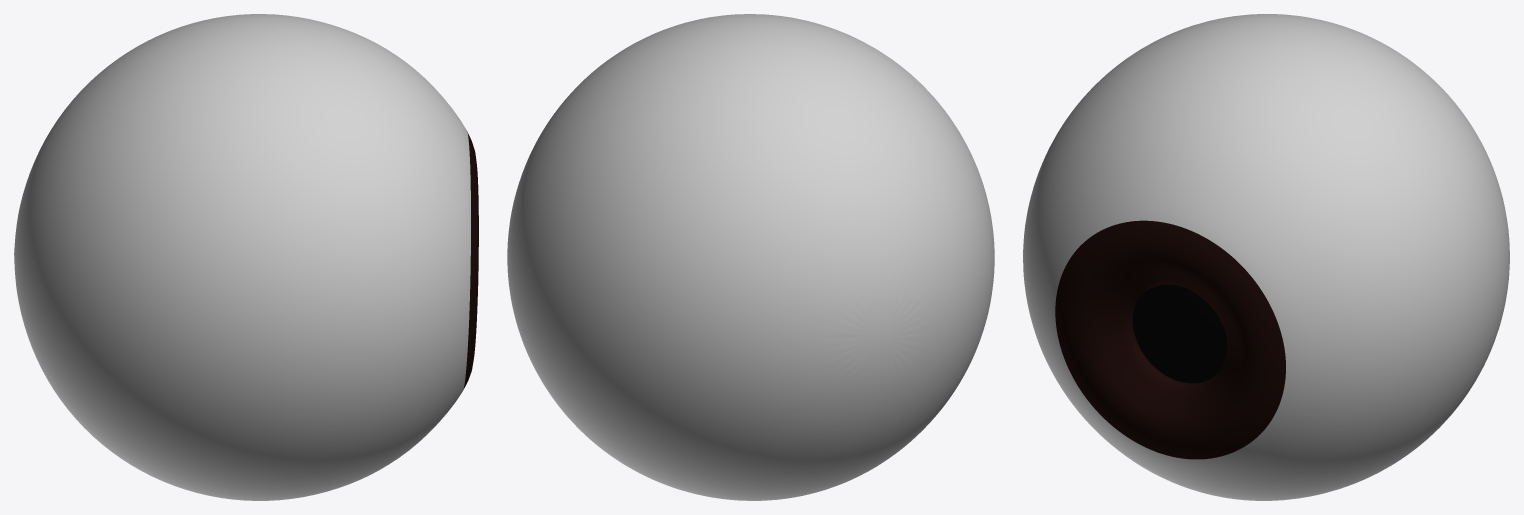
The model's file is GEO_autumn_eye_r.obj.
3 views of the same model, side by side, from view 1: azimuth 30°, elevation 25°; view 2: azimuth 150°, elevation 25°; view 3: azimuth 270°, elevation 25° (orthographic).
Parts seen in each view (by area): view 1: GEO_autumn_eye.r; view 2: GEO_autumn_eye.r; view 3: GEO_autumn_eye.r.
Part boxes in pixels (box(x1,y1,x2,y2)): GEO_autumn_eye.r: box(14, 14, 478, 500); GEO_autumn_eye.r: box(507, 14, 994, 500); GEO_autumn_eye.r: box(1023, 14, 1509, 500).
Bounding box in the file's own units: 0.0626 × 0.0626 × 0.0627.
